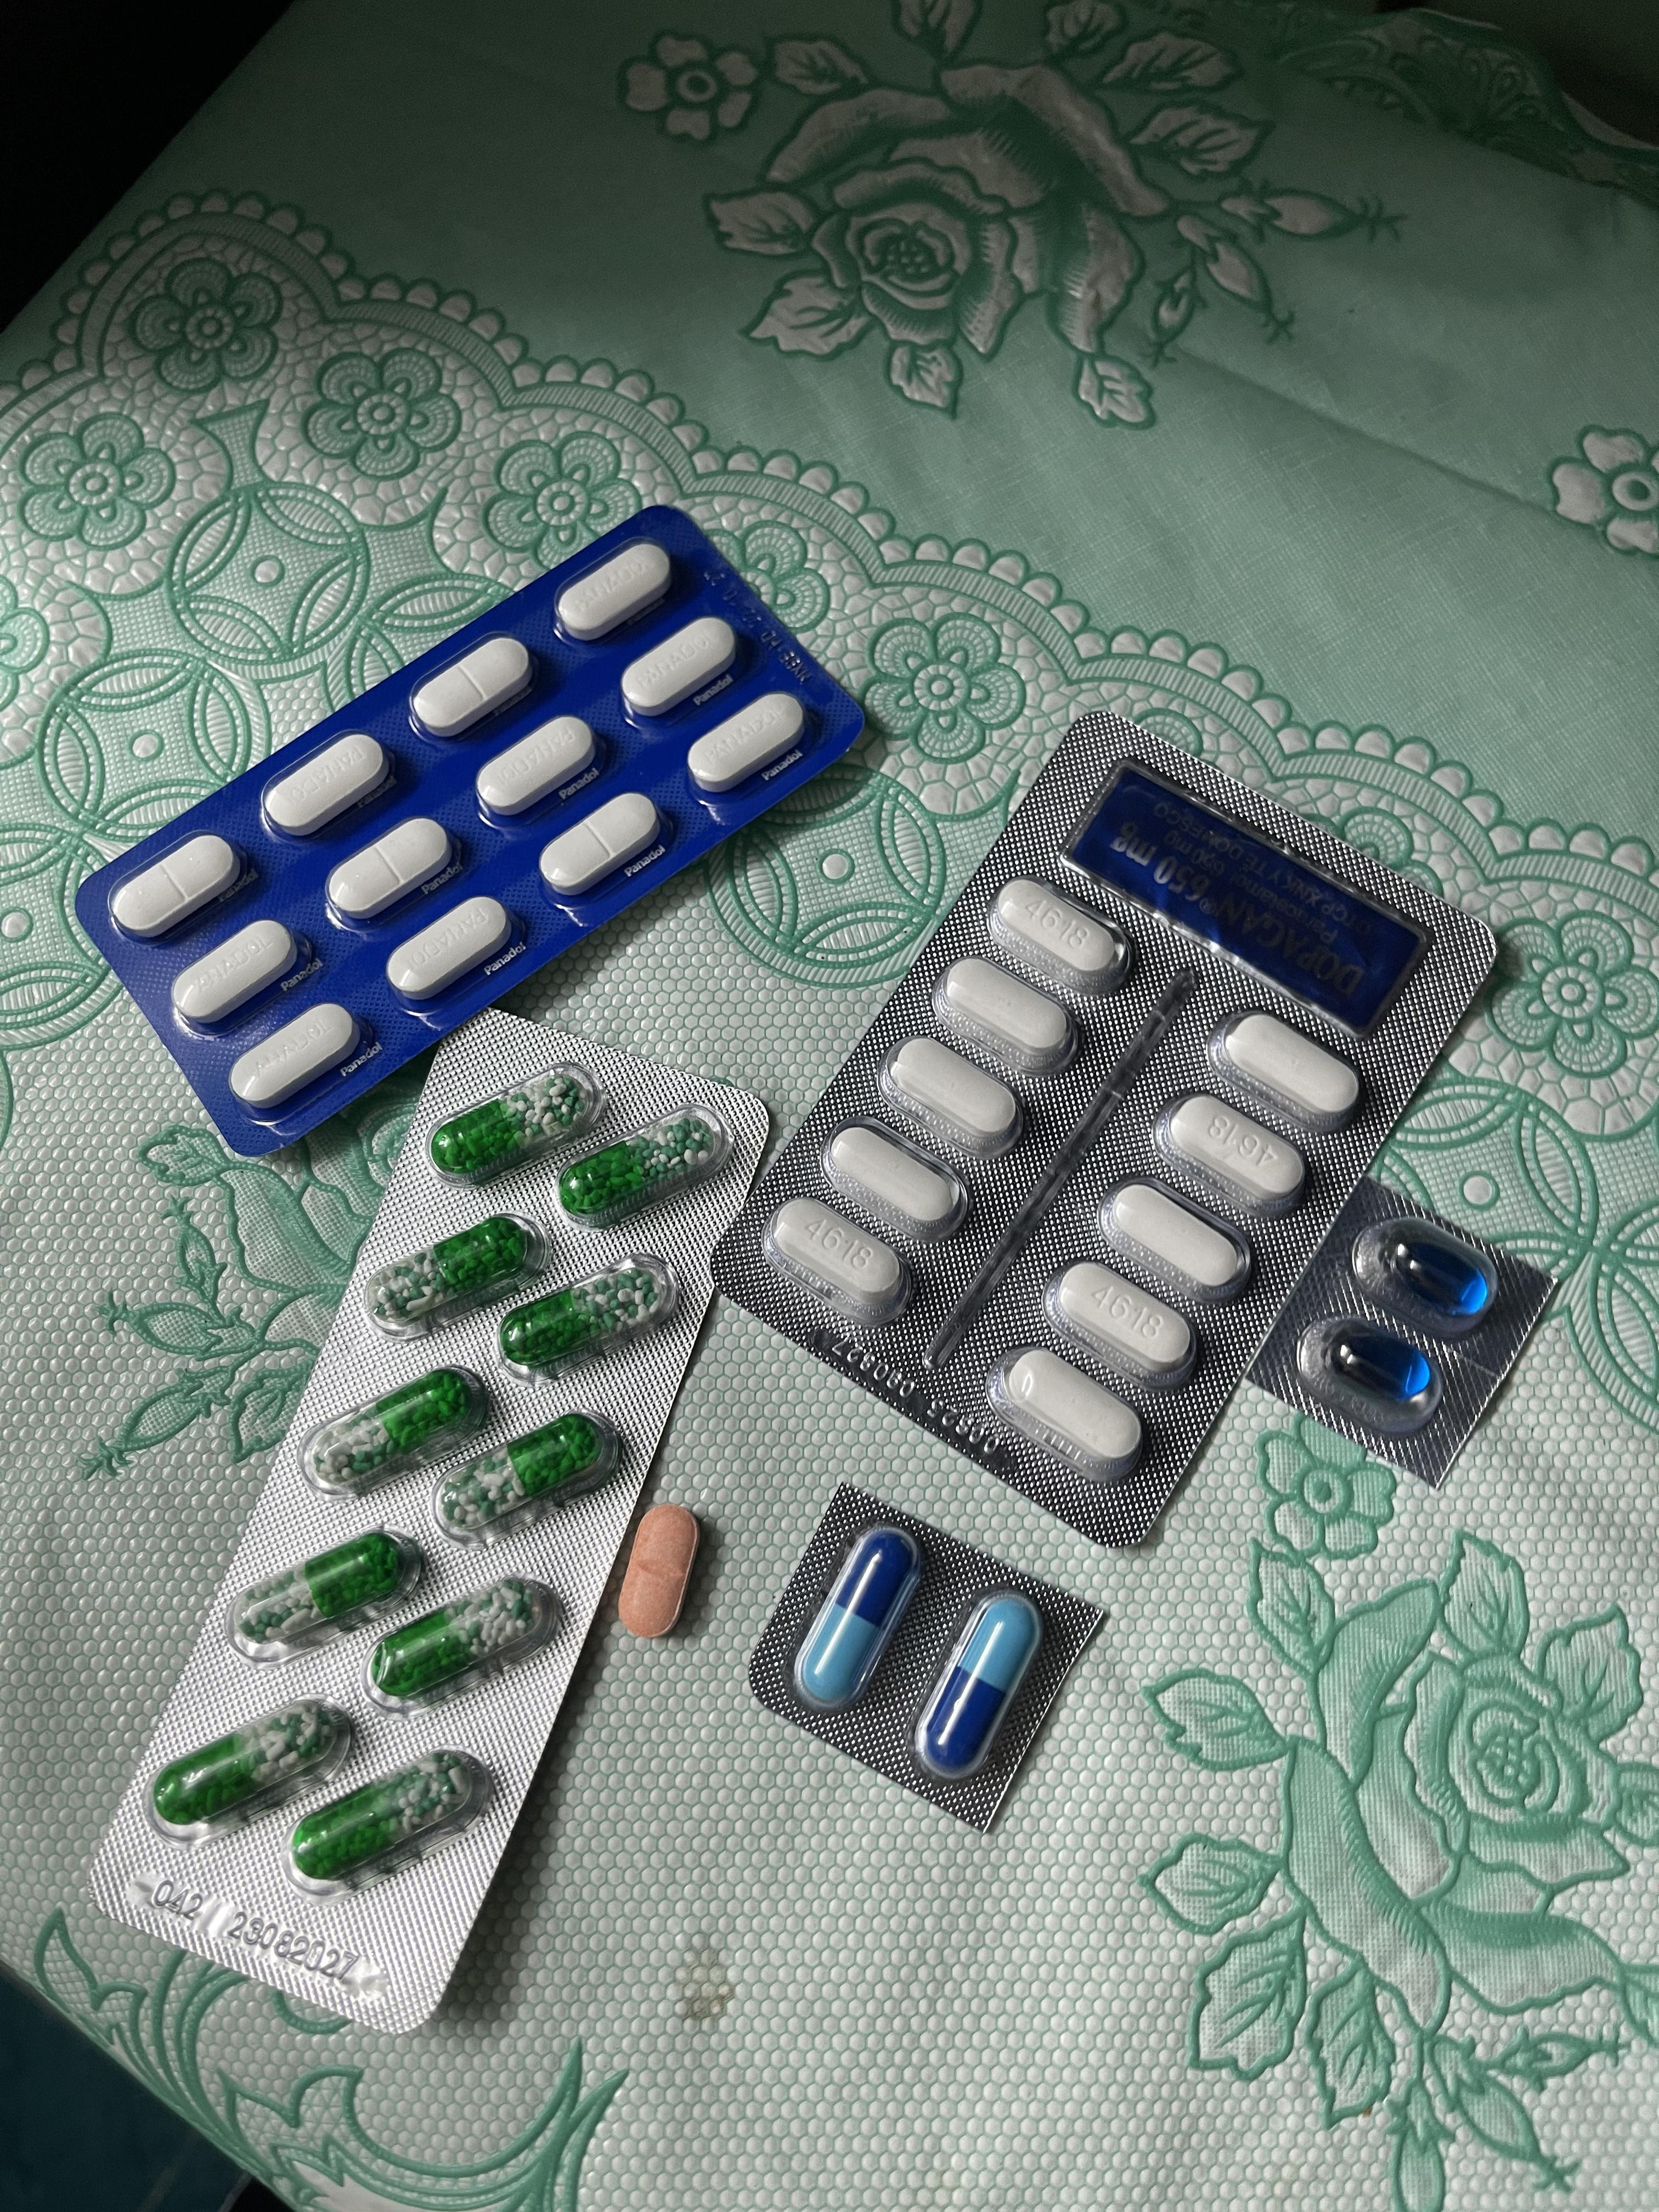Lincomyxin_500mg: (1396, 1237, 1488, 1315), (1333, 1331, 1429, 1402)
Loratadine_10mg: (617, 1503, 699, 1641)
Paracetamol_350mg: (112, 833, 244, 941), (173, 918, 300, 1028), (263, 732, 392, 838), (328, 817, 457, 923), (385, 897, 514, 1003), (681, 688, 807, 796), (228, 1010, 361, 1111), (542, 791, 666, 899), (476, 714, 599, 819), (413, 636, 537, 738), (620, 617, 741, 721), (556, 540, 676, 643)
Paracetamol_500mg: (990, 1341, 1155, 1472), (1101, 1176, 1253, 1308), (1046, 1259, 1197, 1392), (878, 1035, 1030, 1165), (1209, 1007, 1363, 1134), (1154, 1090, 1304, 1219), (823, 1120, 971, 1249), (762, 1197, 904, 1329), (932, 958, 1084, 1080), (986, 888, 1131, 1001)
Paracetamol_650mg: (282, 1750, 493, 1900), (143, 1698, 356, 1843), (368, 1573, 565, 1705), (232, 1527, 430, 1655), (493, 1254, 676, 1379), (361, 1216, 545, 1338), (425, 1069, 599, 1186), (556, 1108, 723, 1223), (443, 1421, 605, 1529), (315, 1376, 472, 1484)
pill: (913, 1587, 1047, 1785), (793, 1526, 922, 1712)
